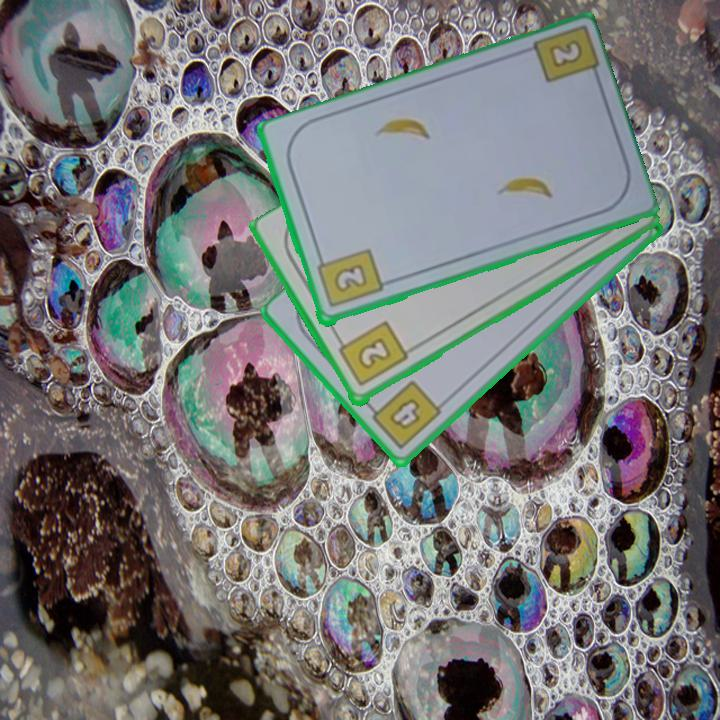2b: (333, 318, 411, 390), (313, 245, 385, 312), (545, 34, 585, 72)
4b: (363, 376, 445, 453)
